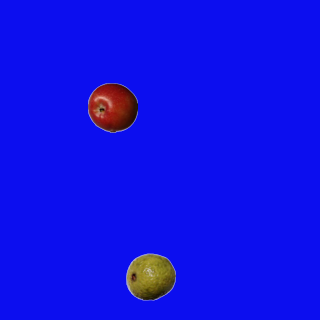Apple Braeburn: (87, 82, 137, 132)
Guava: (125, 251, 175, 301)
